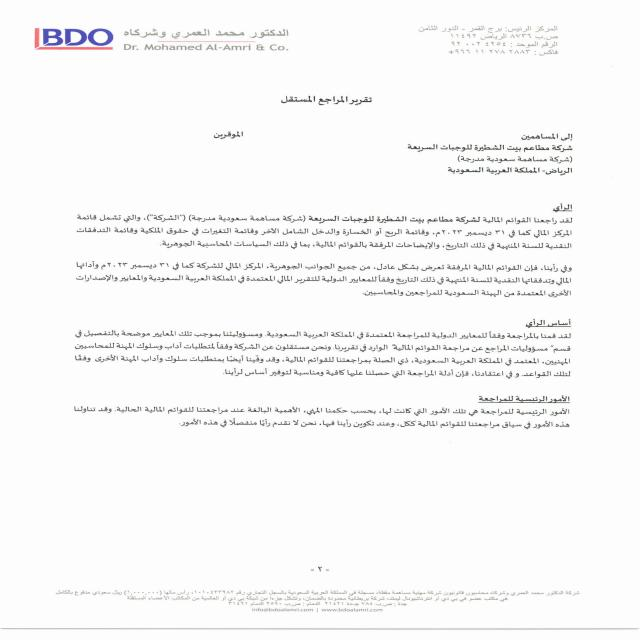auditor_report: (269, 92, 382, 111)
